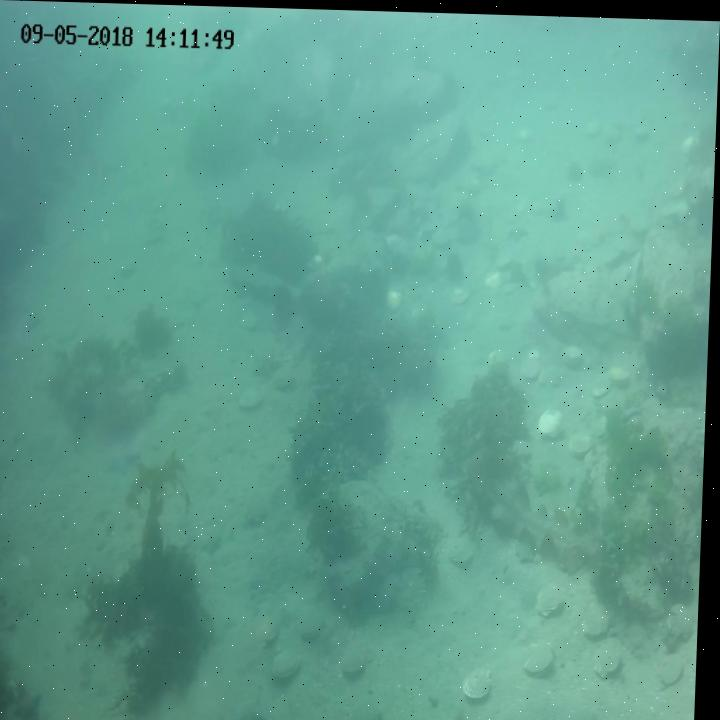scallop: (540, 574, 569, 616), (672, 596, 699, 638), (520, 341, 549, 380), (527, 639, 560, 672), (467, 661, 497, 697), (587, 597, 616, 634), (597, 642, 629, 674), (276, 647, 307, 680), (539, 402, 568, 436), (352, 697, 389, 720), (302, 612, 331, 640), (346, 651, 375, 678), (239, 384, 268, 409), (571, 427, 598, 453), (452, 540, 479, 564), (516, 535, 540, 560), (611, 360, 637, 381), (564, 338, 587, 361), (484, 265, 507, 288), (592, 410, 611, 437), (593, 373, 614, 396), (389, 286, 409, 310), (452, 281, 473, 303)
starfish: (233, 682, 279, 720), (104, 442, 145, 478), (16, 682, 50, 720), (204, 531, 227, 557)
